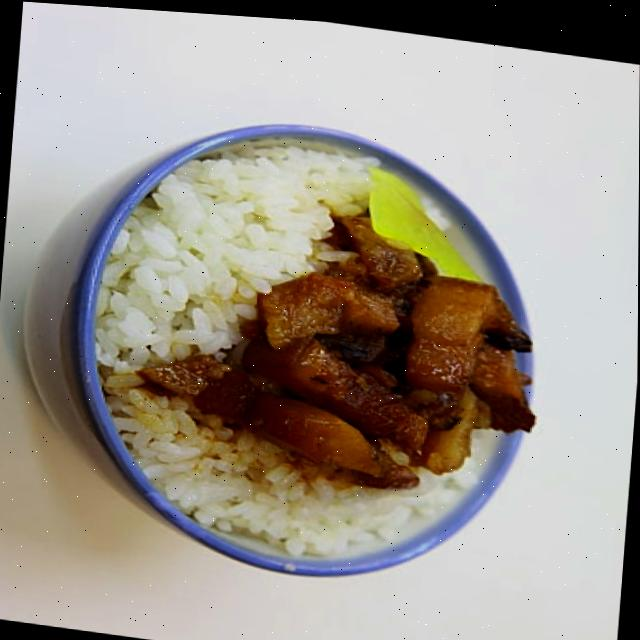猪肉菜式: (53, 89, 563, 606)
